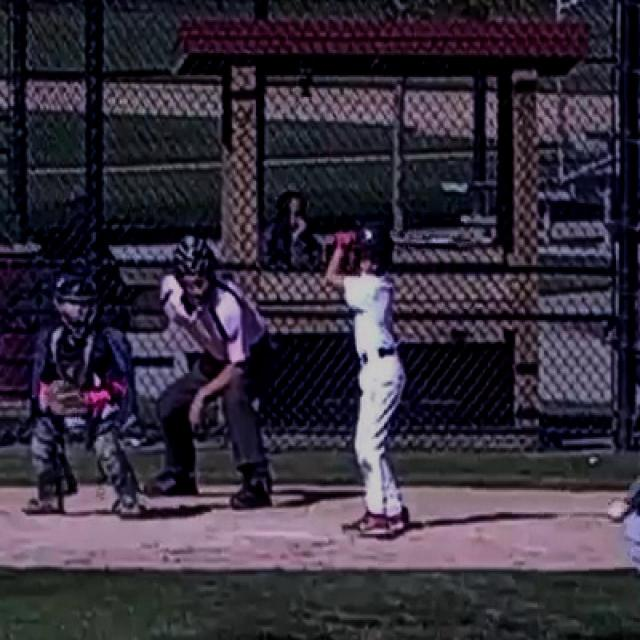baseball: (608, 502, 624, 519)
